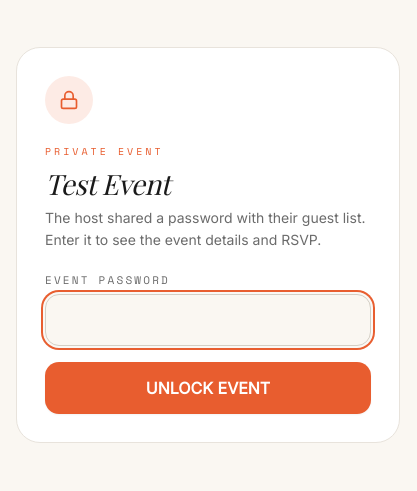
Test: EventPasswordGate — accessible status messages › flips aria-invalid after a wrong submit and shows an error
Type "nope" into the password field labelled "Event password".
click(208, 320); type("nope")  # box [45, 294, 371, 346]
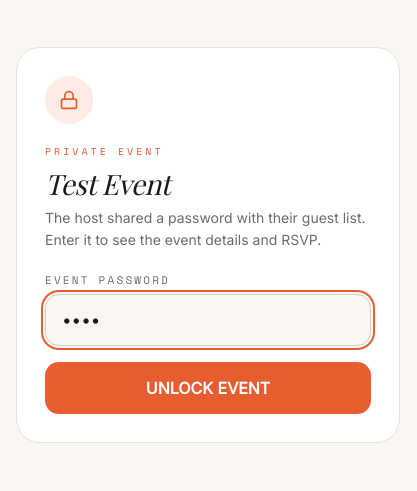
Submit the form labelled "Event password Unlock event", box [45, 275, 371, 414]
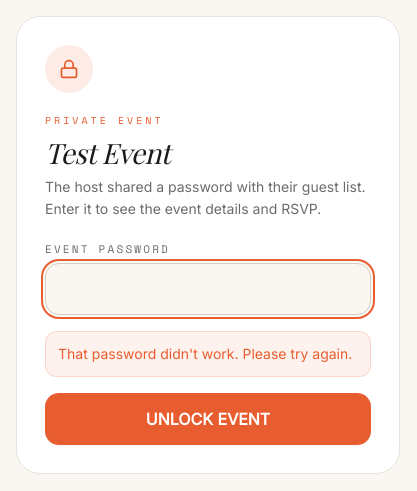
Result: the message shows "didn't work" at [58, 345, 352, 362]
